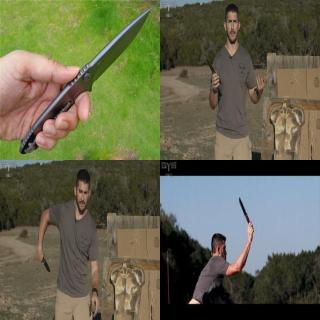knife: (16, 6, 154, 156), (236, 194, 254, 235), (203, 56, 219, 88), (34, 248, 50, 274)
